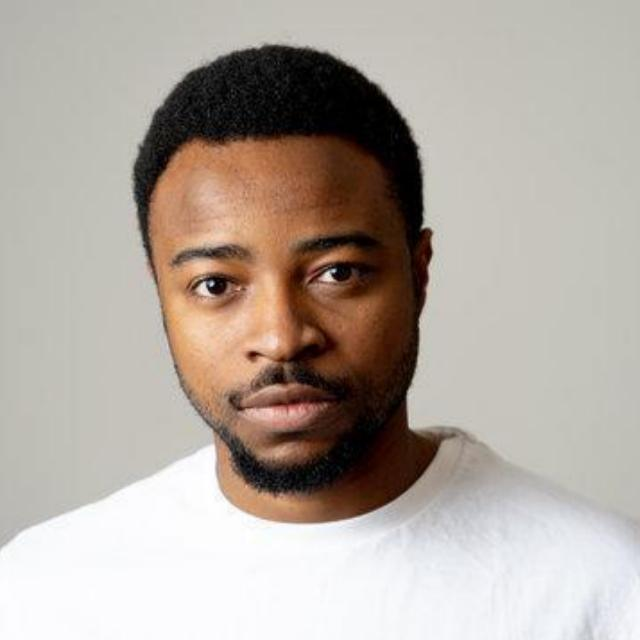Natural: (109, 101, 510, 508)
